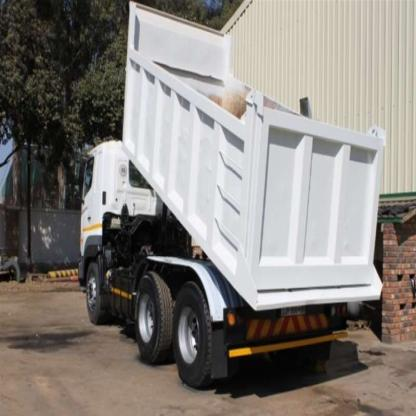dump_truck: (75, 4, 387, 392)
